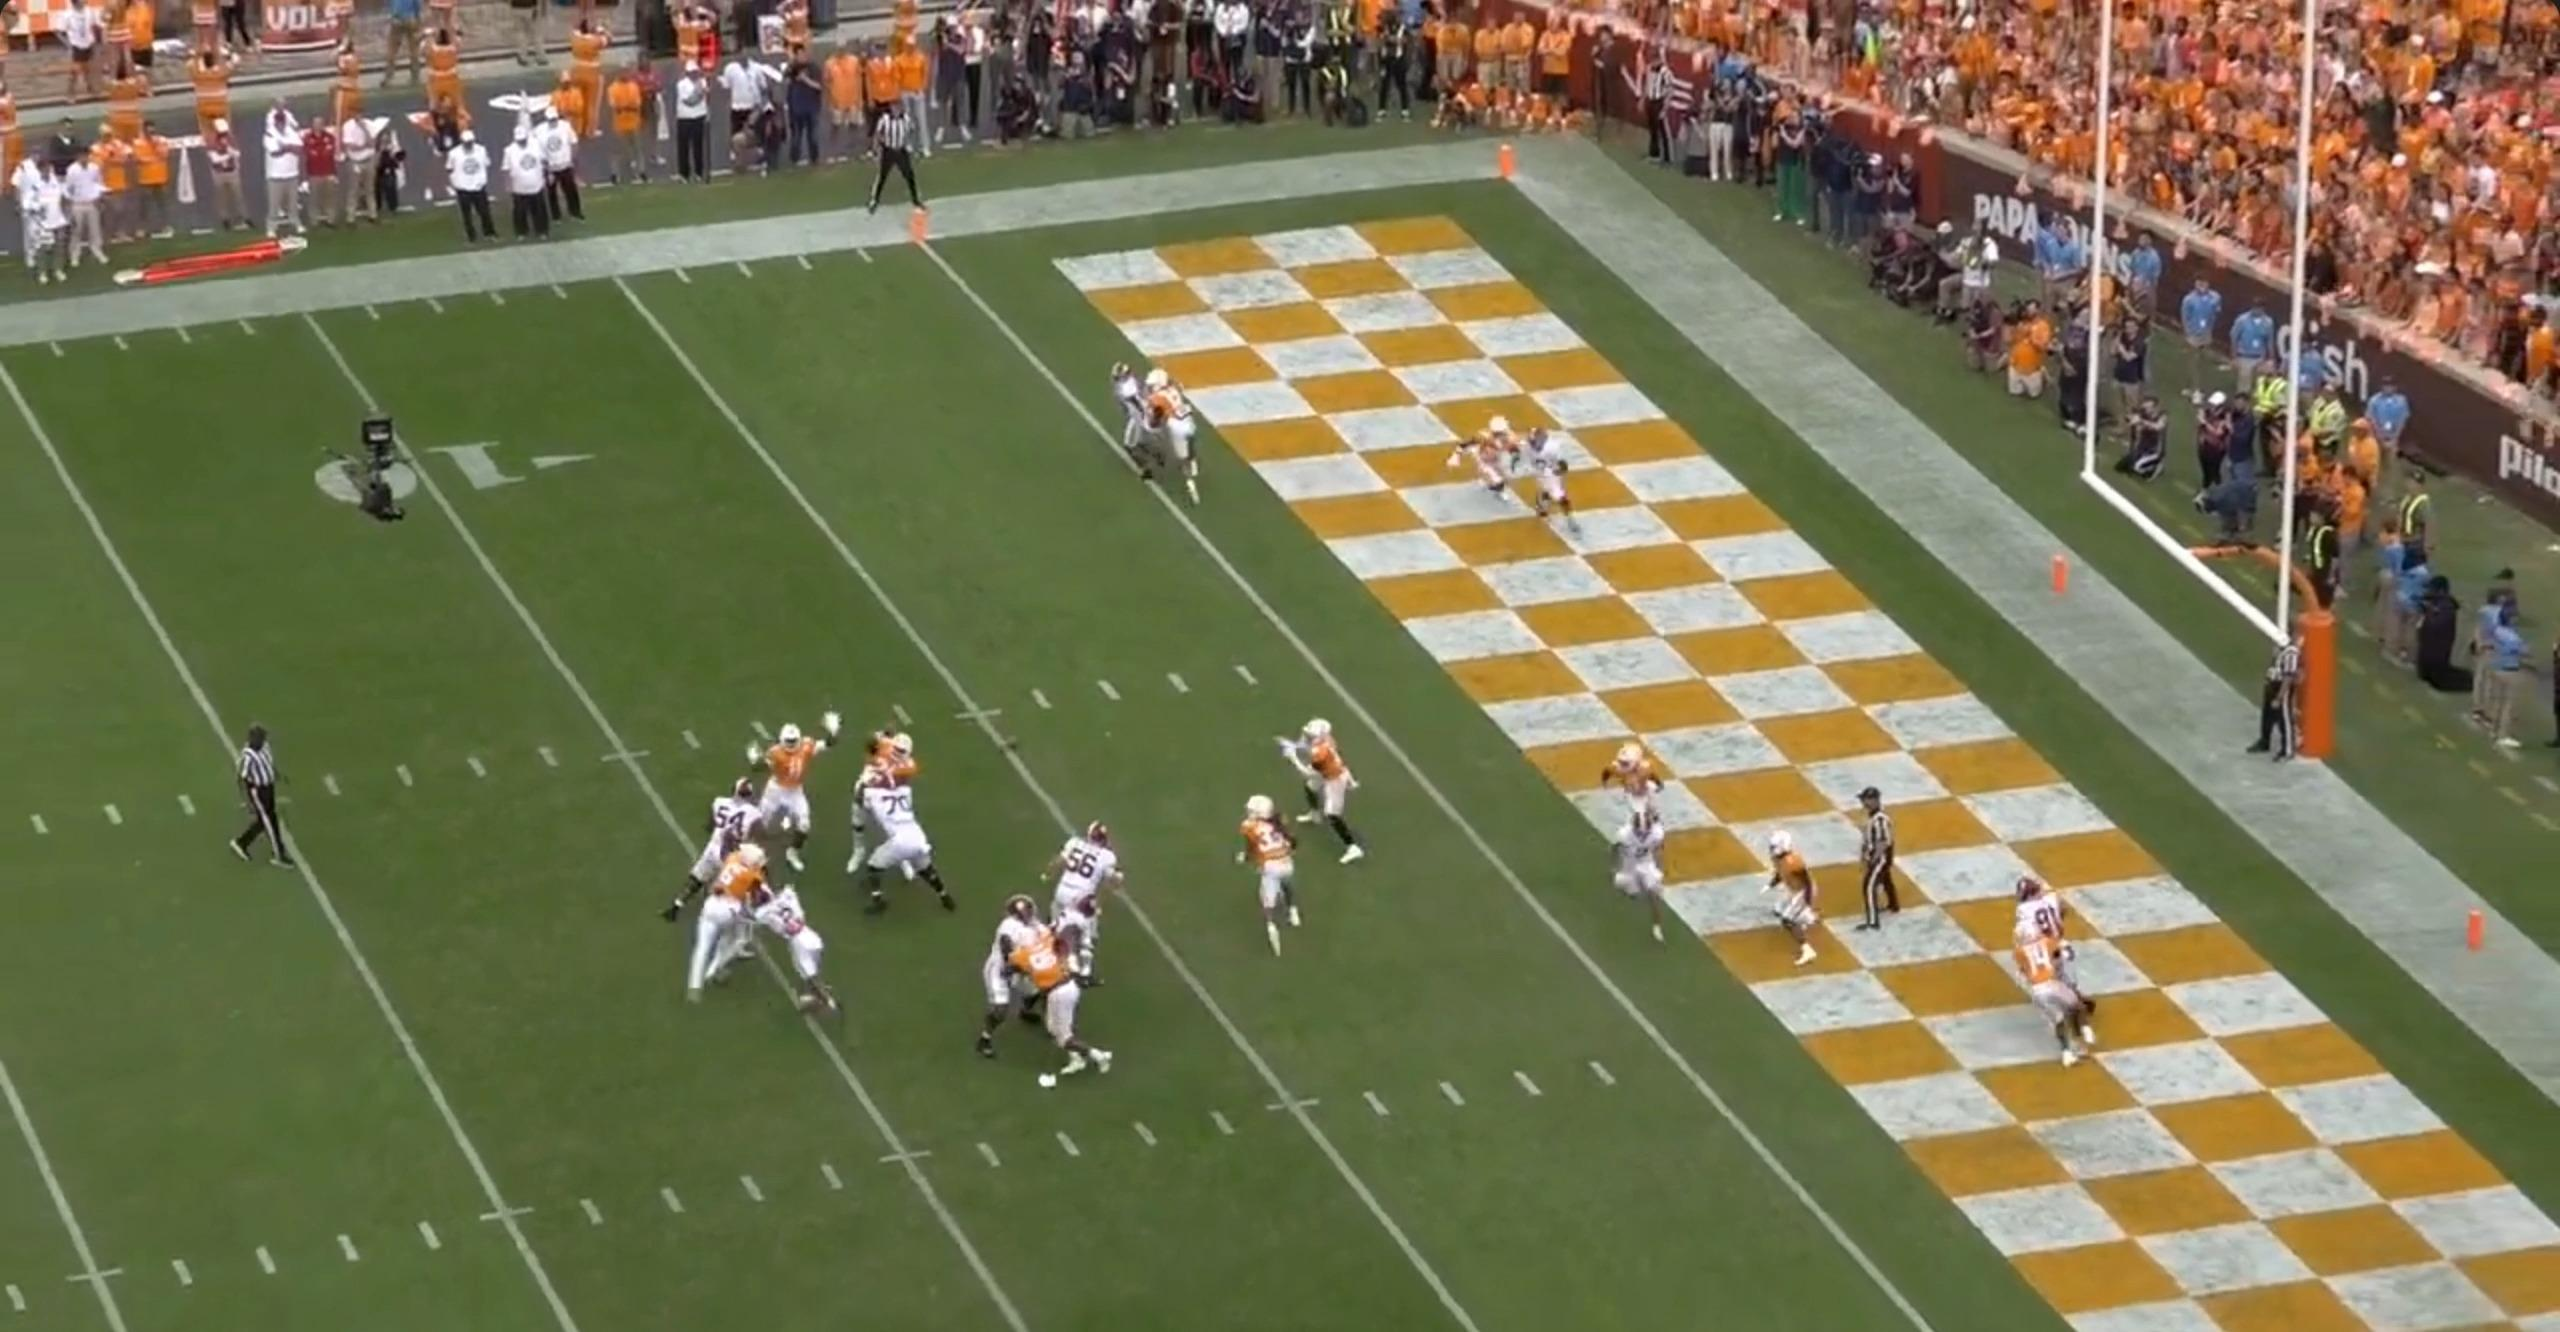player: (1011, 924, 1121, 1091), (655, 780, 776, 924), (851, 769, 963, 917), (678, 845, 777, 1009), (728, 876, 836, 1023), (975, 893, 1058, 1065), (1277, 715, 1366, 871), (2005, 911, 2092, 1066), (746, 715, 826, 871), (1608, 776, 1677, 954), (1231, 789, 1302, 957), (1752, 822, 1820, 967), (1597, 733, 1664, 880), (1143, 370, 1208, 512), (1040, 820, 1134, 918), (1456, 414, 1537, 514), (1517, 422, 1578, 532), (1101, 358, 1154, 479), (854, 721, 925, 794), (2012, 876, 2072, 957), (1050, 893, 1103, 951)
ref: (235, 722, 300, 875), (863, 91, 933, 216), (1846, 786, 1901, 942)
